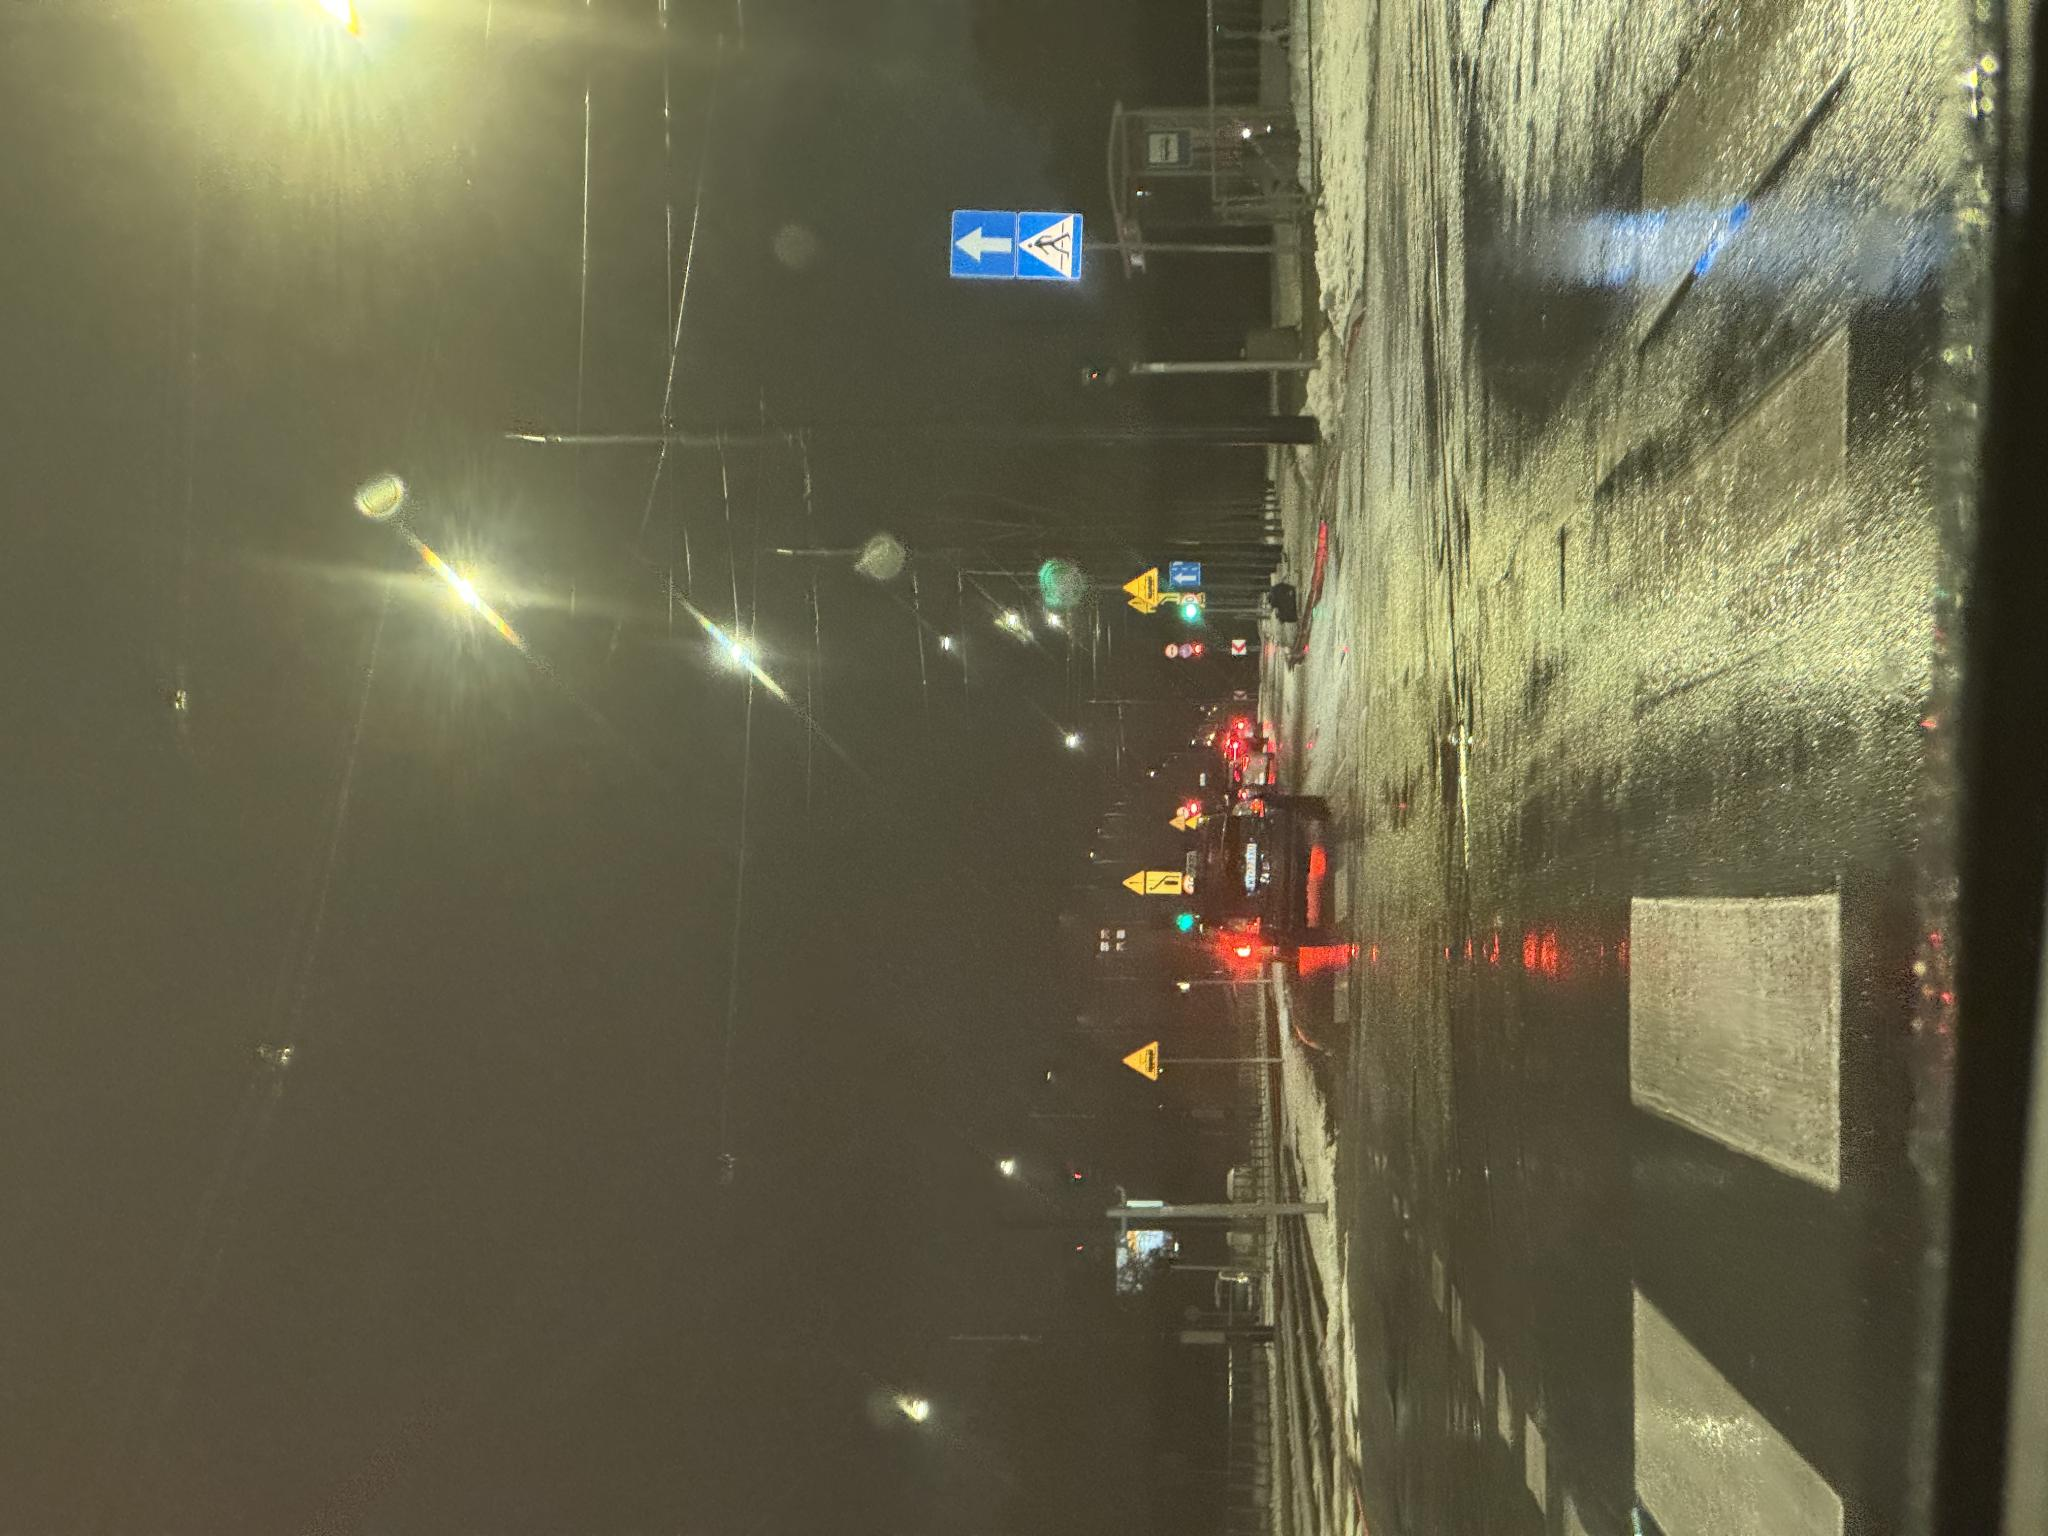information: (1256, 1014, 1326, 1086), (1256, 950, 1328, 1017)
other: (642, 1146, 666, 1182)
prohibitory: (641, 1182, 661, 1194), (878, 1164, 892, 1178), (878, 1180, 892, 1192)
warning: (454, 1121, 496, 1159), (930, 1123, 968, 1159), (640, 1122, 666, 1146), (704, 1169, 722, 1185)
